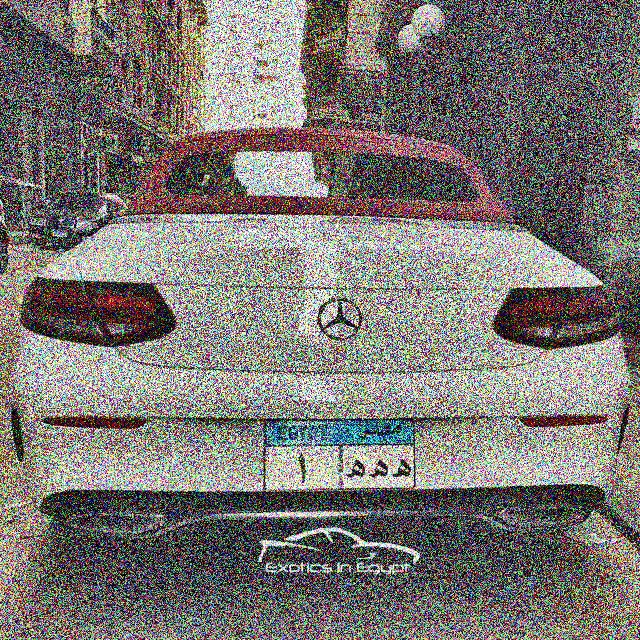License Plate: (261, 416, 417, 494)
